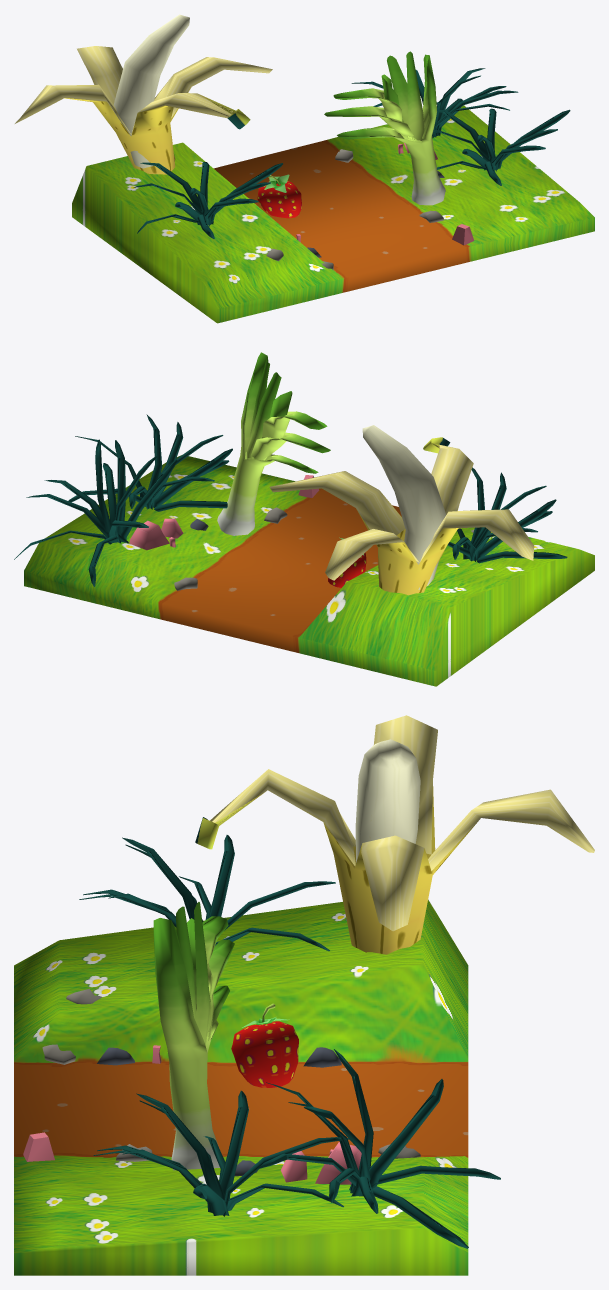
The model's file is D_block_14.FBX.
3 views of the same model, one above another, from view 1: azimuth 30°, elevation 25°; view 2: azimuth 150°, elevation 25°; view 3: azimuth 270°, elevation 25° (orthographic). The views are drawn at different scales.
Parts seen in each view (by area): view 1: biome_02; view 2: biome_02; view 3: biome_02.
Part boxes in pixels (bbox=[...]): biome_02: bbox=[15, 14, 594, 323]; biome_02: bbox=[14, 352, 594, 686]; biome_02: bbox=[14, 715, 594, 1275].
Size of the model in its own units: 1163 by 455 by 767.
